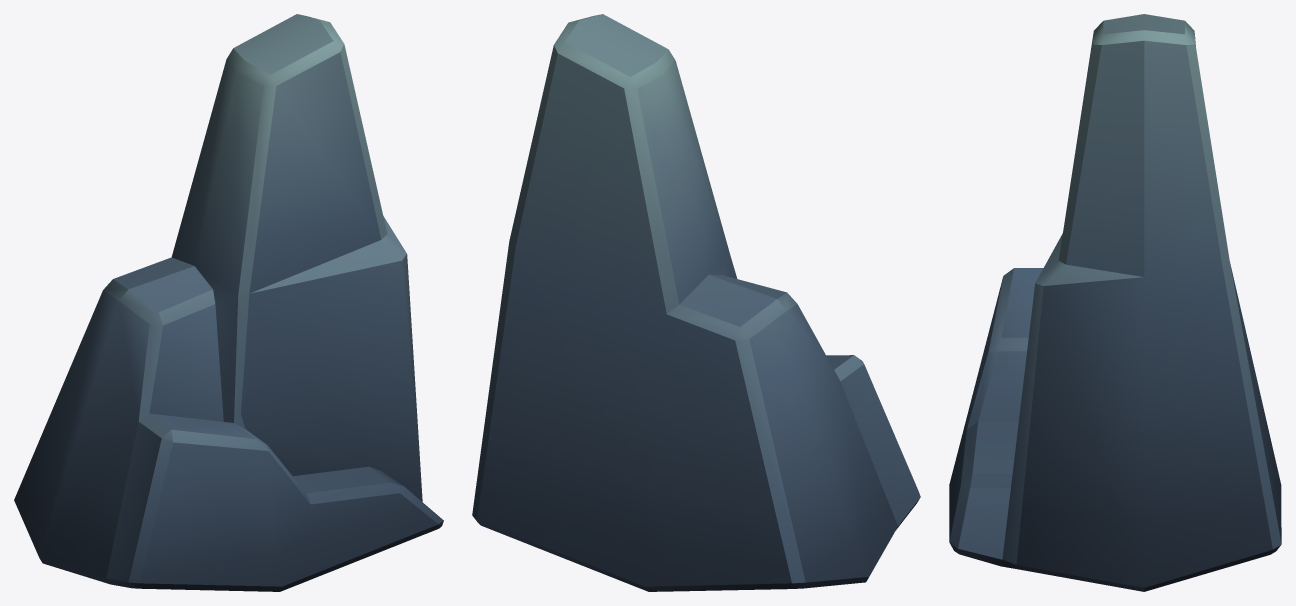
The model's file is rock_medium_3.glb.
3 renders of one model, left to right at view 1: azimuth 30°, elevation 25°; view 2: azimuth 150°, elevation 25°; view 3: azimuth 270°, elevation 25°, orthographic. The views are drawn at different scales.
Visible parts, largest first — view 1: rock_medium_3; view 2: rock_medium_3; view 3: rock_medium_3.
Part boxes in pixels (x1=…): rock_medium_3: x1=14, y1=14, x2=443, y2=591; rock_medium_3: x1=472, y1=14, x2=920, y2=591; rock_medium_3: x1=949, y1=14, x2=1281, y2=591.
Bounding box in the file's own units: 3.16 × 4.31 × 2.34.
Materials: 1 (1 with a texture image).
